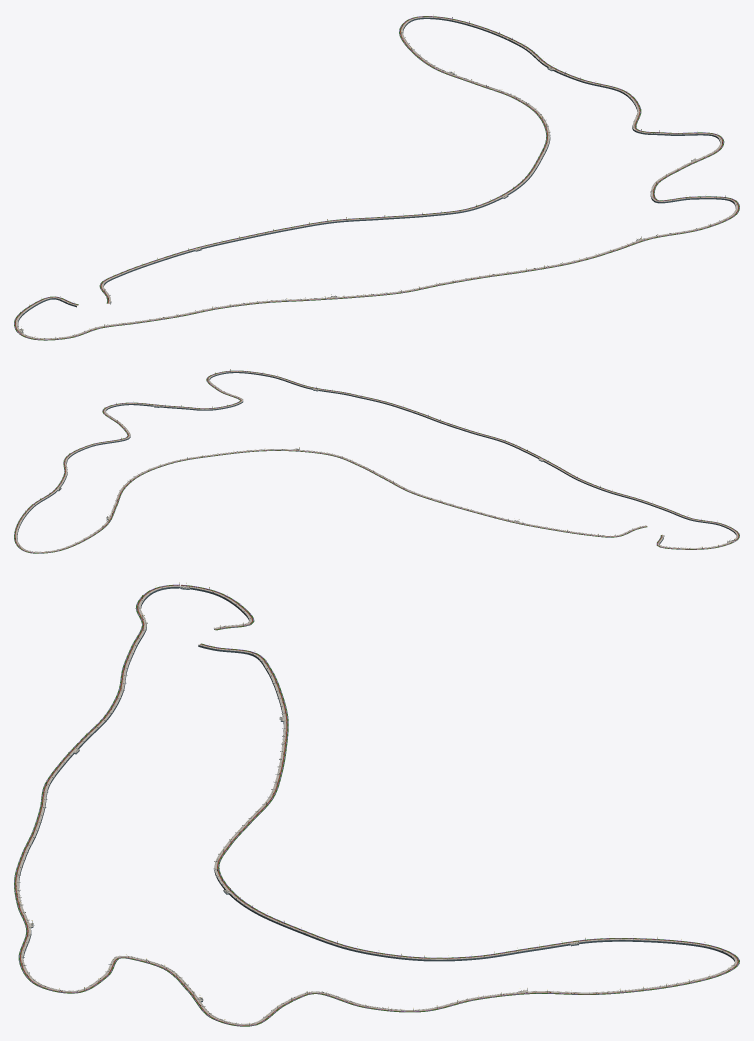
File: ke_ho_lan_can_da_va_loi_dao_bo_ho_xuan_huong.glb
The picture shows the model from 3 angles, top to bottom: view 1: azimuth 30°, elevation 25°; view 2: azimuth 150°, elevation 25°; view 3: azimuth 270°, elevation 25°; orthographic projection. The views are drawn at different scales.
Visible parts, largest first — view 1: HoXuanHuong_Granite_Pedestrian_Promenade_4m2, HoXuanHuong_Lakeside_Turf_And_Hedges, HoXuanHuong_Red_Basalt_Scenic_Walkway, HoXuanHuong_Classic_Stone_Balustrades_Prop05, HoXuanHuong_Split_Granite_Seawall_Embankment, HoXuanHuong_Lakeside_Flower_Borders, HoXuanHuong_Granite_Coping_And_Steps; view 2: HoXuanHuong_Granite_Pedestrian_Promenade_4m2, HoXuanHuong_Lakeside_Turf_And_Hedges, HoXuanHuong_Red_Basalt_Scenic_Walkway, HoXuanHuong_Split_Granite_Seawall_Embankment, HoXuanHuong_Classic_Stone_Balustrades_Prop05, HoXuanHuong_Lakeside_Flower_Borders, HoXuanHuong_Granite_Coping_And_Steps; view 3: HoXuanHuong_Granite_Pedestrian_Promenade_4m2, HoXuanHuong_Lakeside_Turf_And_Hedges, HoXuanHuong_Red_Basalt_Scenic_Walkway, HoXuanHuong_Classic_Stone_Balustrades_Prop05, HoXuanHuong_Split_Granite_Seawall_Embankment, HoXuanHuong_Lakeside_Flower_Borders, HoXuanHuong_Granite_Coping_And_Steps.
Boxes of the visible parts, <box> form: HoXuanHuong_Granite_Pedestrian_Promenade_4m2: <box>16,17,737,339</box>; HoXuanHuong_Lakeside_Turf_And_Hedges: <box>14,16,739,340</box>; HoXuanHuong_Red_Basalt_Scenic_Walkway: <box>15,16,738,339</box>; HoXuanHuong_Classic_Stone_Balustrades_Prop05: <box>17,17,736,338</box>; HoXuanHuong_Split_Granite_Seawall_Embankment: <box>18,17,736,338</box>; HoXuanHuong_Lakeside_Flower_Borders: <box>14,16,739,340</box>; HoXuanHuong_Granite_Coping_And_Steps: <box>17,17,736,338</box>; HoXuanHuong_Granite_Pedestrian_Promenade_4m2: <box>15,371,738,552</box>; HoXuanHuong_Lakeside_Turf_And_Hedges: <box>14,370,739,553</box>; HoXuanHuong_Red_Basalt_Scenic_Walkway: <box>15,371,738,553</box>; HoXuanHuong_Split_Granite_Seawall_Embankment: <box>17,372,736,549</box>; HoXuanHuong_Classic_Stone_Balustrades_Prop05: <box>17,371,736,552</box>; HoXuanHuong_Lakeside_Flower_Borders: <box>14,370,739,553</box>; HoXuanHuong_Granite_Coping_And_Steps: <box>17,372,732,552</box>; HoXuanHuong_Granite_Pedestrian_Promenade_4m2: <box>16,585,737,1025</box>; HoXuanHuong_Lakeside_Turf_And_Hedges: <box>14,585,739,1026</box>; HoXuanHuong_Red_Basalt_Scenic_Walkway: <box>15,585,738,1025</box>; HoXuanHuong_Classic_Stone_Balustrades_Prop05: <box>17,585,735,1024</box>; HoXuanHuong_Split_Granite_Seawall_Embankment: <box>17,587,734,1024</box>; HoXuanHuong_Lakeside_Flower_Borders: <box>14,584,739,1026</box>; HoXuanHuong_Granite_Coping_And_Steps: <box>18,586,735,1024</box>.
Bounding box in the file's own units: 1393 × 7.72 × 966.
